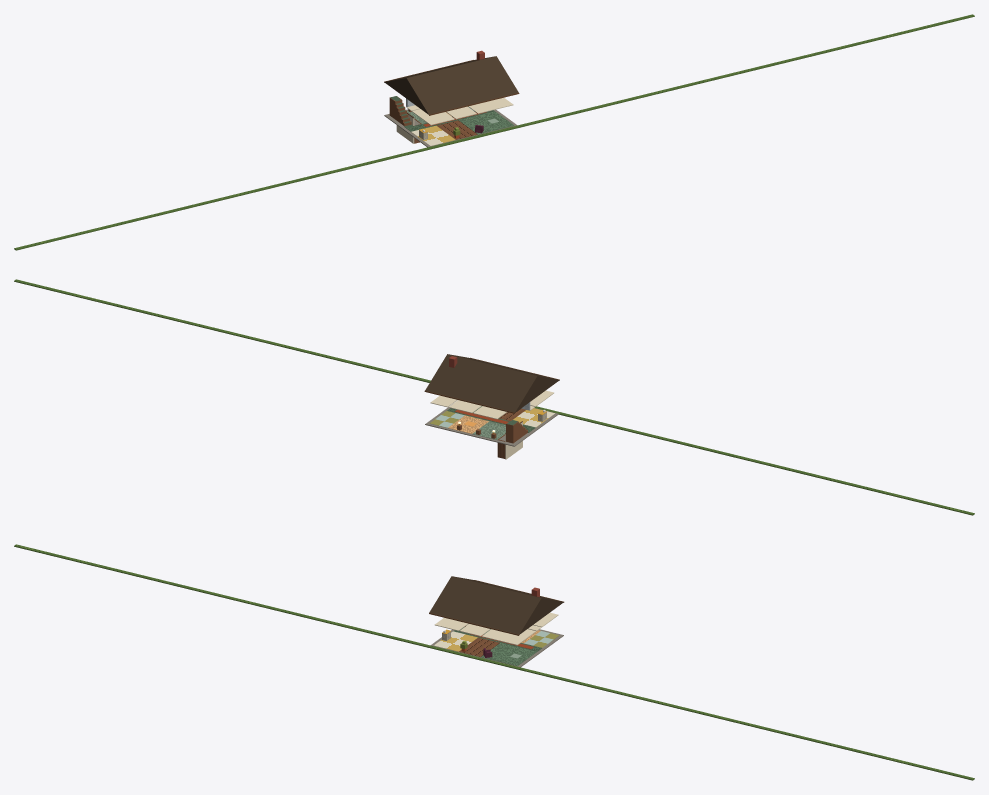
File: structure.glb
3 views of the same model, one above another, from view 1: azimuth 30°, elevation 25°; view 2: azimuth 150°, elevation 25°; view 3: azimuth 330°, elevation 25° (orthographic).
Visible parts, largest first — view 1: Part1, Box1, Box3; view 2: Part1, Box1, Box2; view 3: Part1, Box1, Box3.
Part boxes in pixels (x1,y1,x2,y2): Part1: [384, 56, 518, 114]; Box1: [14, 14, 974, 250]; Box3: [458, 111, 513, 134]; Part1: [425, 354, 559, 412]; Box1: [14, 279, 974, 515]; Box2: [425, 400, 558, 446]; Part1: [429, 576, 563, 634]; Box1: [14, 544, 974, 780]; Box3: [481, 643, 536, 665].
Bounding box in the file's own units: 126 × 9.25 × 10.5.
Materials: 34 (10 with a texture image).
